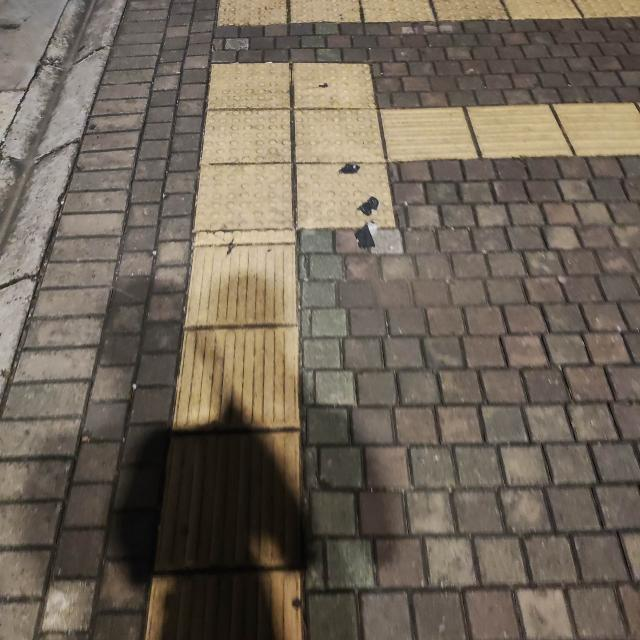kanan: (135, 85, 520, 254)
